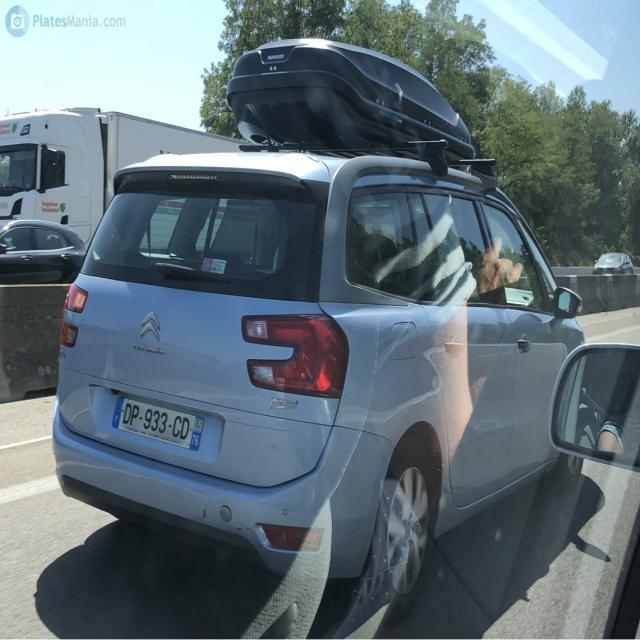Autre: (103, 387, 211, 456)
